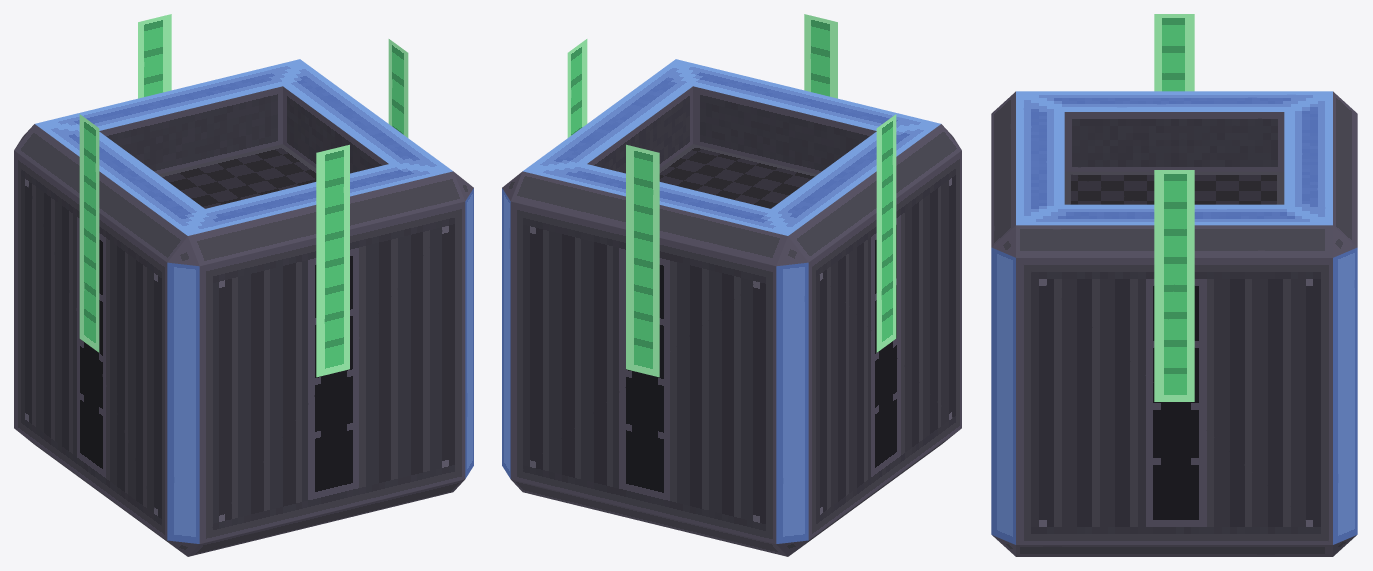
Rendered from storage.glb.
3 views of the same model, side by side, from view 1: azimuth 30°, elevation 25°; view 2: azimuth 150°, elevation 25°; view 3: azimuth 270°, elevation 25° (orthographic). The views are drawn at different scales.
Parts seen in each view (by area): view 1: storage_body, storage_level; view 2: storage_body, storage_level; view 3: storage_body, storage_level.
Boxes of the visible parts, left/top/right/bottom form: storage_body: left=14, top=59, right=473, bottom=556; storage_level: left=79, top=14, right=408, bottom=377; storage_body: left=502, top=59, right=961, bottom=556; storage_level: left=567, top=14, right=896, bottom=377; storage_body: left=991, top=91, right=1357, bottom=556; storage_level: left=1154, top=14, right=1194, bottom=401.
Size of the model in its own units: 1.01 by 1.2 by 1.01.
Materials: 1 (1 with a texture image).
